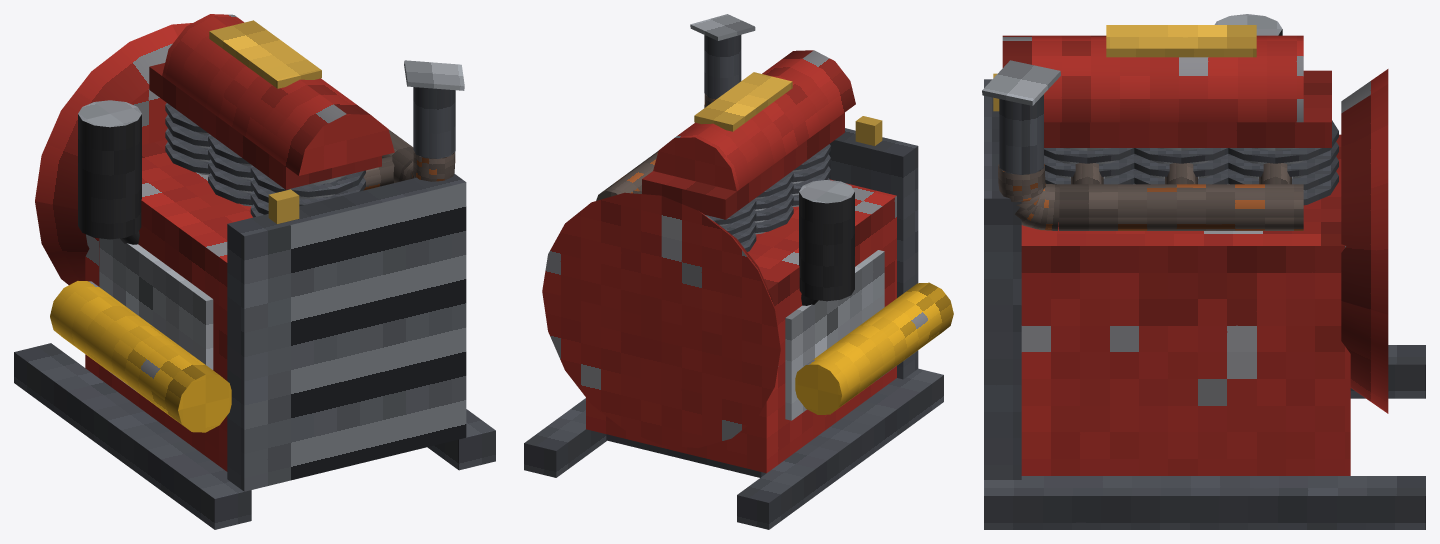
The model's file is diesel_engine.obj.
3 renders of one model, left to right at view 1: azimuth 30°, elevation 25°; view 2: azimuth 150°, elevation 25°; view 3: azimuth 270°, elevation 25°, orthographic. The views are drawn at different scales.
Size of the model in its own units: 0.825 by 1.01 by 0.944.
